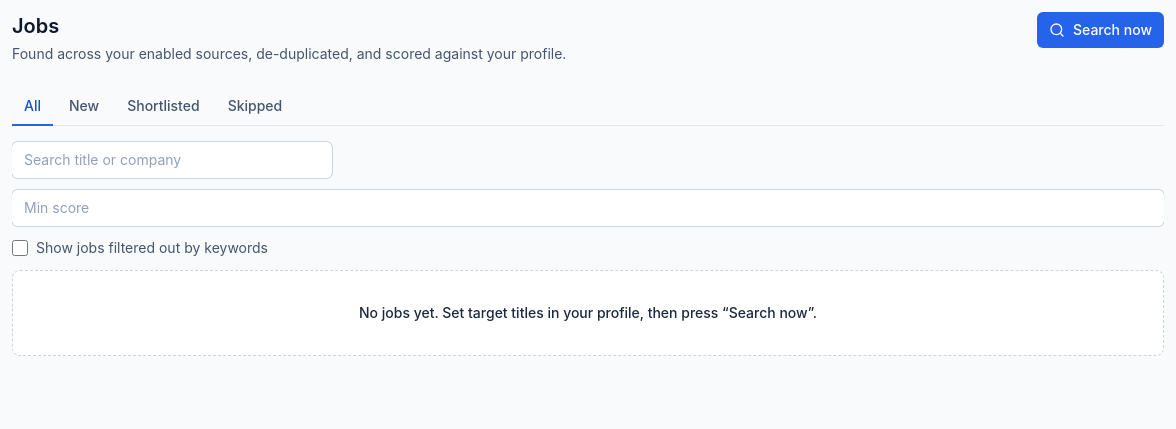
Test: JobsPage › reports a rate-limited manual search
Step 1. Click the button "Search now" → (1100,30), box [1037,12,1164,48]
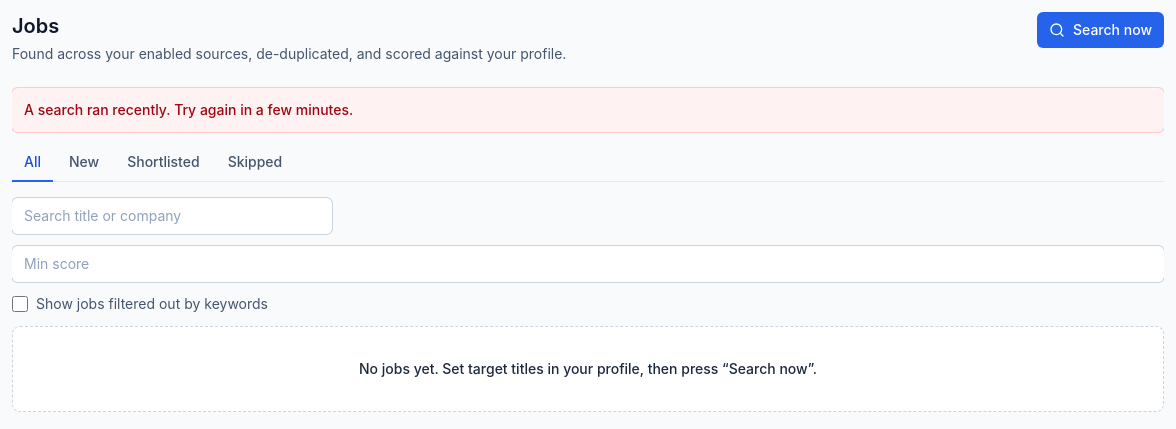
Now the text "A search ran recently. Try again in a few minutes." is shown, box [24,101,353,118]
